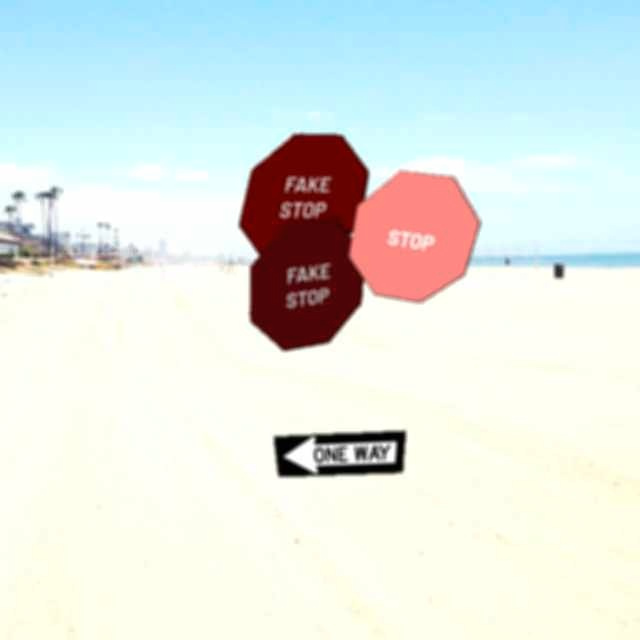FAKE_STOP: (238, 133, 369, 266), (249, 218, 365, 351)
ONE_WAY_ left: (273, 430, 406, 477)
STOP: (348, 170, 481, 303)
